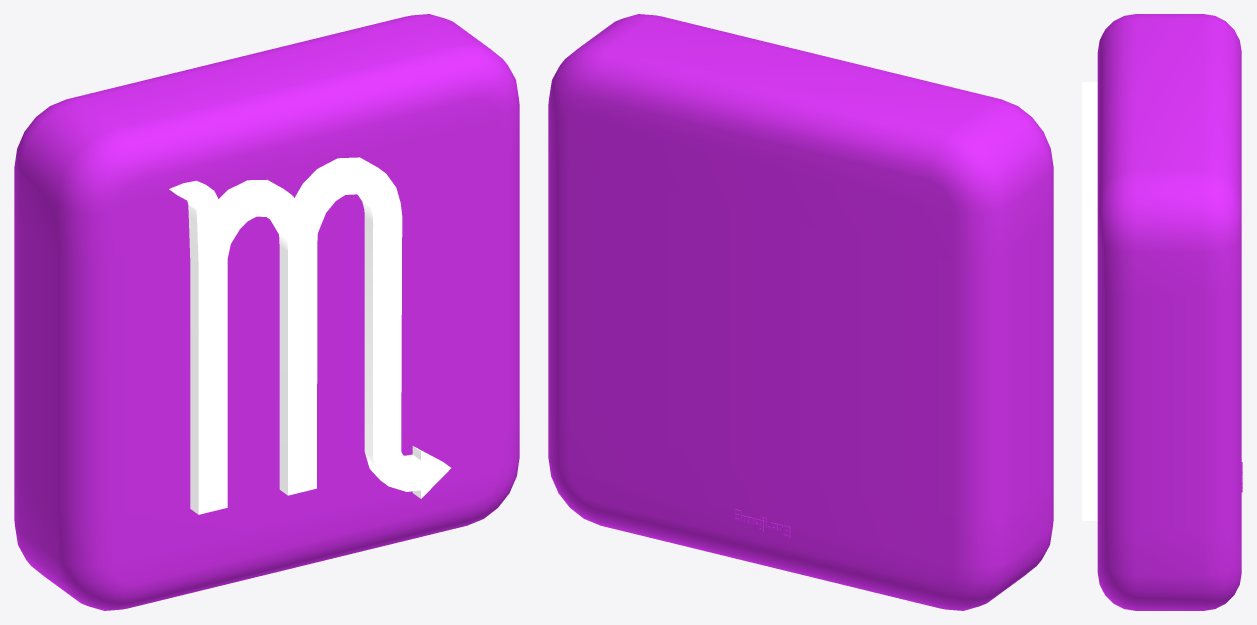
Rendered from scorpio.gltf.
3 renders of one model, left to right at view 1: azimuth 30°, elevation 25°; view 2: azimuth 150°, elevation 25°; view 3: azimuth 270°, elevation 25°, orthographic. The views are drawn at different scales.
Parts seen in each view (by area): view 1: Cube.6406; view 2: Cube.6406; view 3: Cube.6406.
Boxes of the visible parts, x1,y1,x2,y2 form: Cube.6406: [14, 14, 519, 610]; Cube.6406: [548, 14, 1053, 610]; Cube.6406: [1082, 14, 1242, 610].
Bounding box in the file's own units: 2.2 × 2.2 × 0.7337.
Materials: 1 (1 with a texture image).
